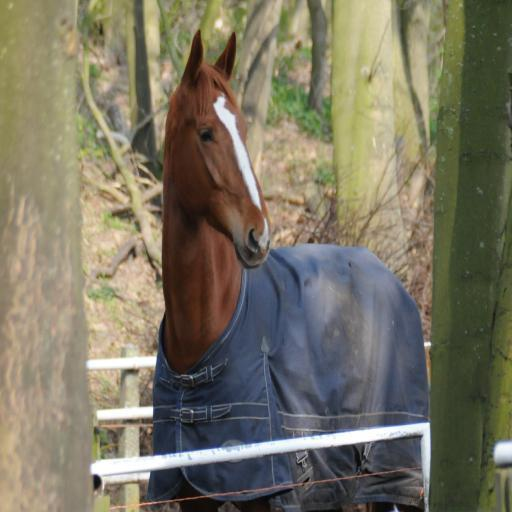horse: (144, 28, 427, 512)
